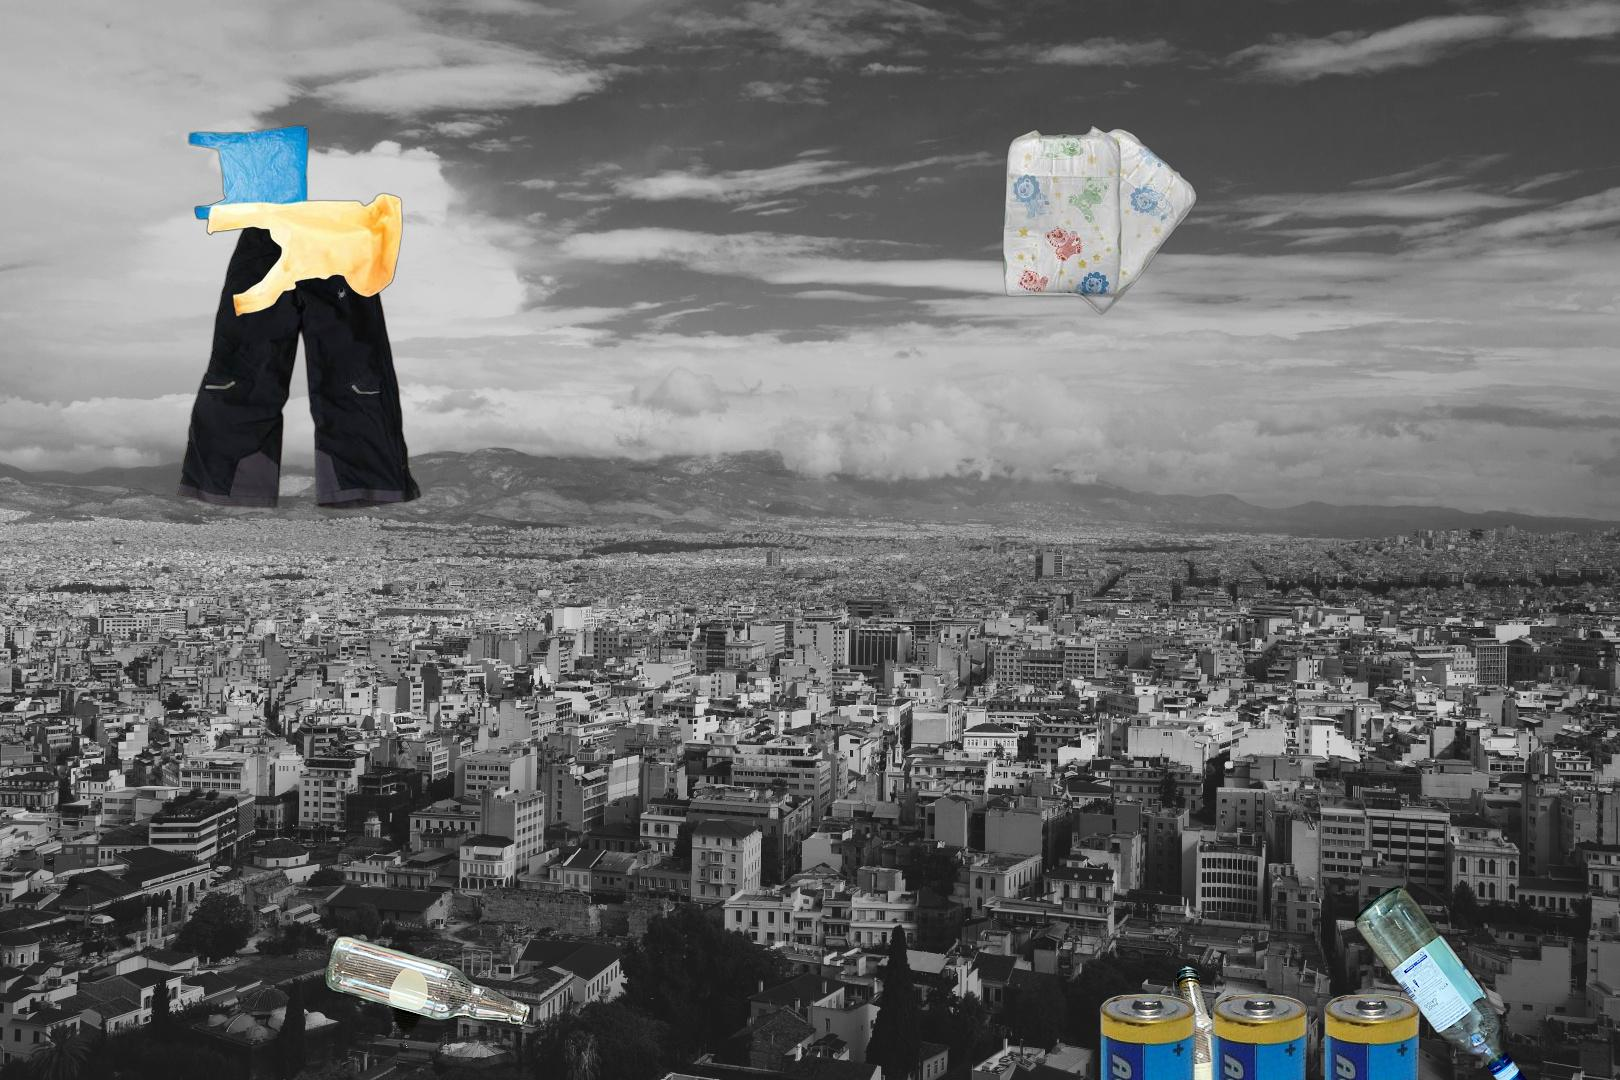battery: (1097, 992, 1431, 1080)
clothes: (174, 217, 423, 617)
glass: (1349, 655, 1620, 1080), (321, 931, 536, 1038), (1170, 959, 1245, 1080)
plastic-bag: (184, 123, 405, 319)
trash: (1000, 122, 1199, 316)
